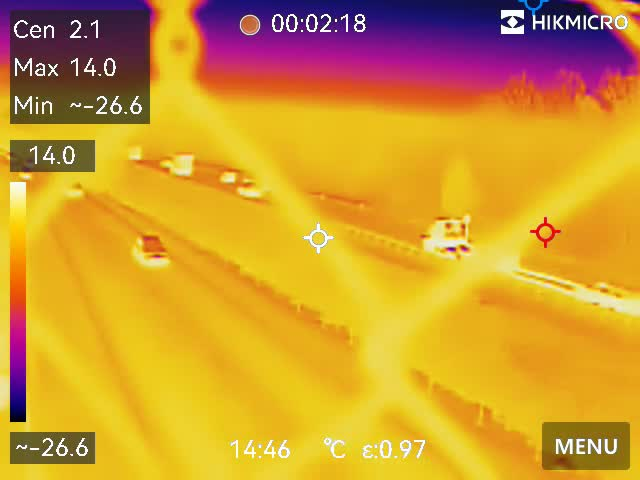heavyTruck: (420, 204, 640, 315)
